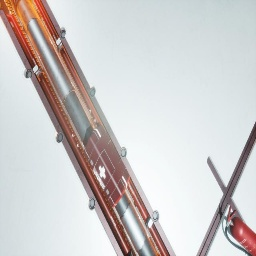FireExtinguisher ]: (225, 205, 256, 256)
FirstAidBox ,: (84, 125, 130, 208)
